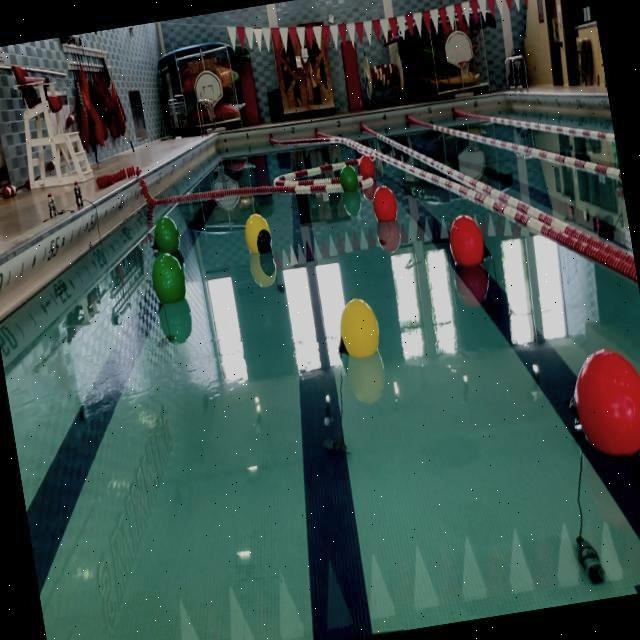buoy: (560, 343, 640, 467), (331, 296, 382, 362), (447, 210, 491, 270), (148, 250, 188, 307), (243, 210, 274, 260), (150, 215, 184, 258), (371, 184, 400, 225), (338, 164, 361, 196), (358, 154, 377, 178)
